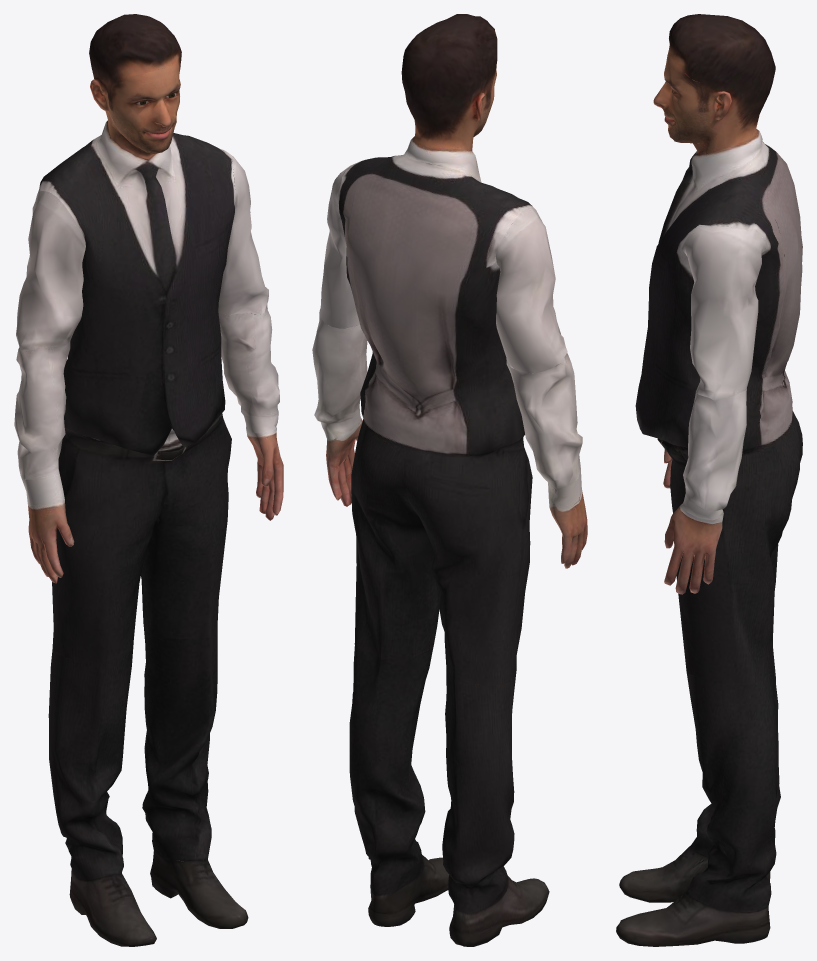
File: sf_man_office.glb
3 renders of one model, left to right at view 1: azimuth 30°, elevation 25°; view 2: azimuth 150°, elevation 25°; view 3: azimuth 270°, elevation 25°, orthographic.
Parts seen in each view (by area): view 1: sf_man_office; view 2: sf_man_office; view 3: sf_man_office.
Boxes of the visible parts, x1=… form: sf_man_office: x1=14, y1=14, x2=283, y2=946; sf_man_office: x1=312, y1=14, x2=587, y2=946; sf_man_office: x1=616, y1=14, x2=802, y2=946.
Bounding box in the file's own units: 0.5304 × 1.75 × 0.3311.
Materials: 1 (1 with a texture image).
